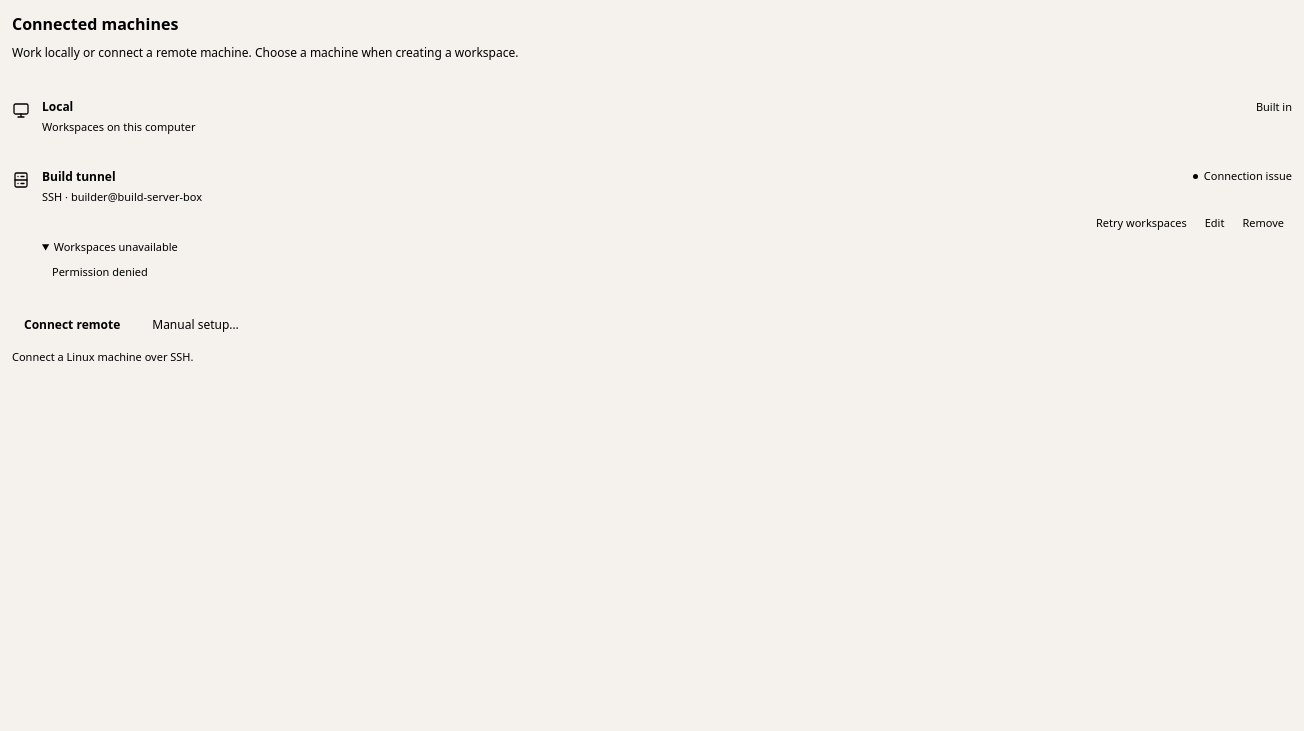
Test: ConnectionsPane › restores saved SSH fields and shows the current read error while editing
The width and height of the screenshot is (1304, 731).
Check: the text "Build tunnel" is shown, box left=42, top=168, right=116, bottom=186
Check: the text "Permission denied" is shown, box left=52, top=264, right=148, bottom=279
Click the button "Edit": (1215, 223) left=1197, top=214, right=1232, bottom=231
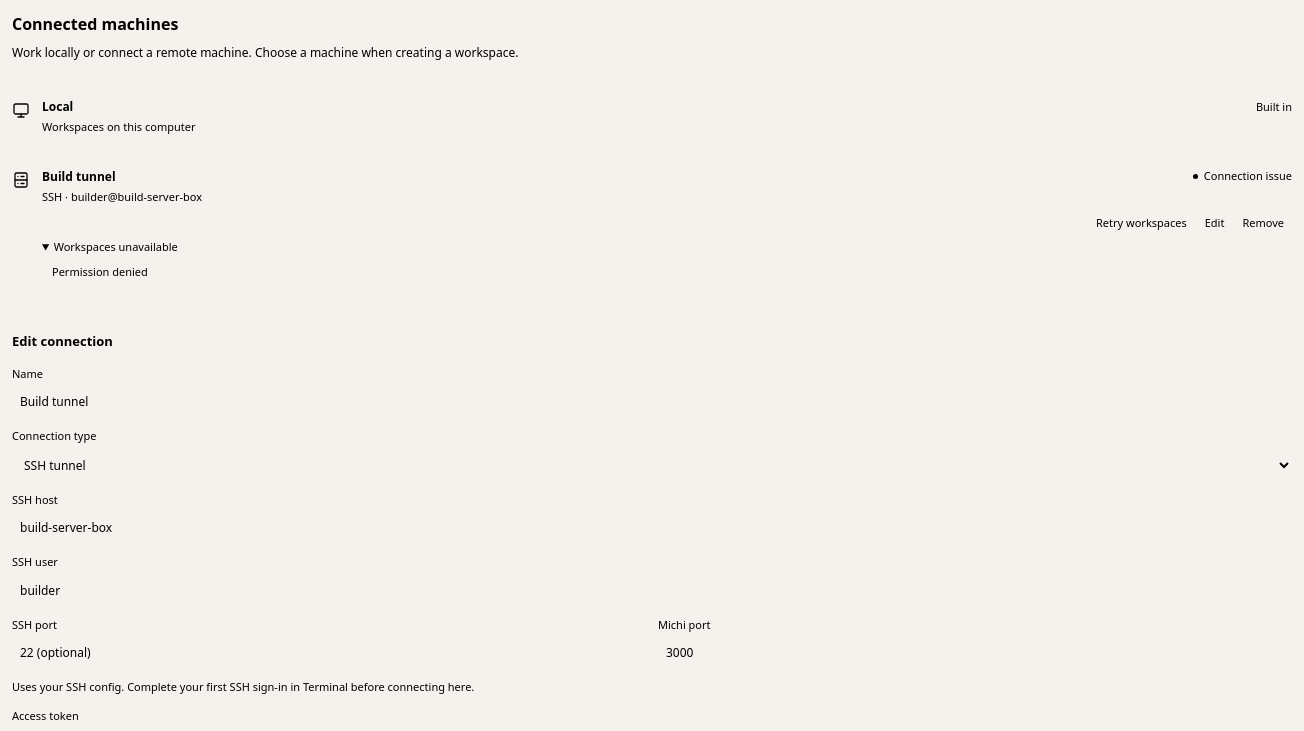
Check: the dropdown named "Connection transport" shows "SSH tunnel", box left=12, top=451, right=1292, bottom=480
Check: the field labelled "SSH host" holds "build-server-box", box left=12, top=514, right=1292, bottom=542
Check: the field labelled "SSH user" holds "builder", box left=12, top=577, right=1292, bottom=605
